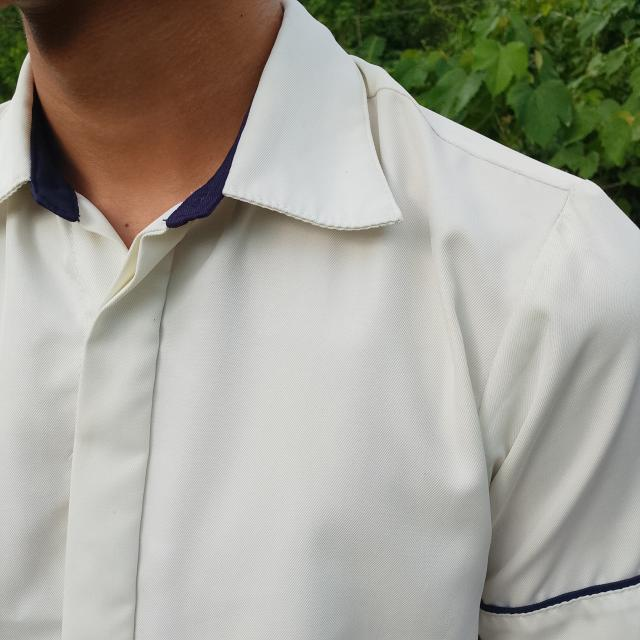education_male_uniform: (0, 10, 640, 637)
